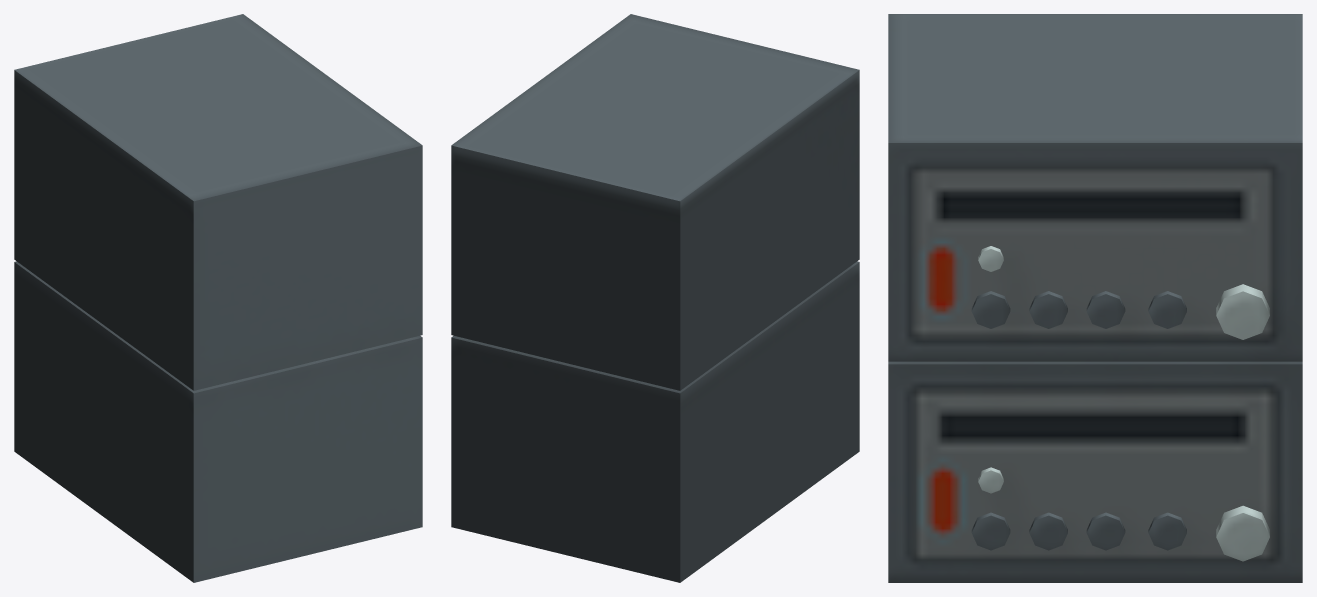
Rendered from Tx_prop_engineering prop2_16.fbx.
3 renders of one model, left to right at view 1: azimuth 30°, elevation 25°; view 2: azimuth 150°, elevation 25°; view 3: azimuth 270°, elevation 25°, orthographic. The views are drawn at different scales.
Visible parts, largest first — view 1: Tx_prop_engineering_prop2_9; view 2: Tx_prop_engineering_prop2_9; view 3: Tx_prop_engineering_prop2_9.
Part boxes in pixels (x1=…): Tx_prop_engineering_prop2_9: x1=14, y1=14, x2=422, y2=582; Tx_prop_engineering_prop2_9: x1=451, y1=14, x2=859, y2=582; Tx_prop_engineering_prop2_9: x1=888, y1=14, x2=1302, y2=582.
Bounding box in the file's own units: 1.64 × 2.47 × 2.11.
Materials: 1 (1 with a texture image).
